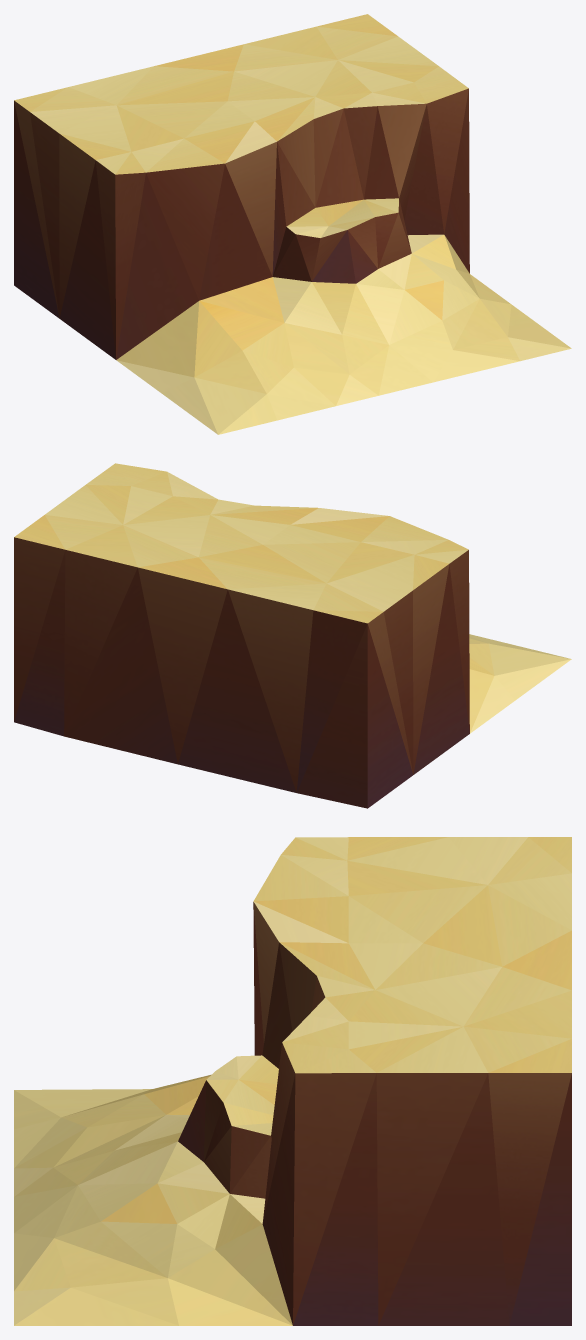
Rendered from GL-Terrain-part-18-LOD3.fbx.
The picture shows the model from 3 angles, top to bottom: view 1: azimuth 30°, elevation 25°; view 2: azimuth 150°, elevation 25°; view 3: azimuth 270°, elevation 25°; orthographic projection. The views are drawn at different scales.
Visible parts, largest first — view 1: GL_Terrain_part_18; view 2: GL_Terrain_part_18; view 3: GL_Terrain_part_18.
Boxes of the visible parts, x1=… form: GL_Terrain_part_18: x1=14, y1=14, x2=571, y2=434; GL_Terrain_part_18: x1=14, y1=463, x2=571, y2=808; GL_Terrain_part_18: x1=14, y1=837, x2=571, y2=1325.
Size of the model in its own units: 6 by 3.05 by 6.
